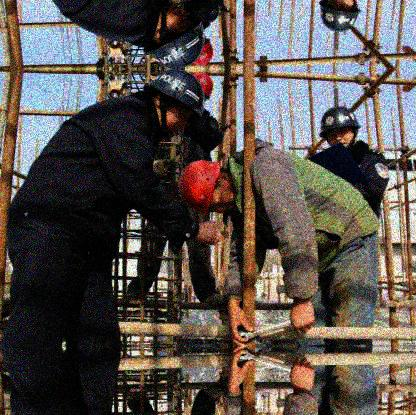helmet: (144, 70, 204, 137), (146, 1, 204, 69), (179, 159, 240, 217), (320, 107, 361, 149)
